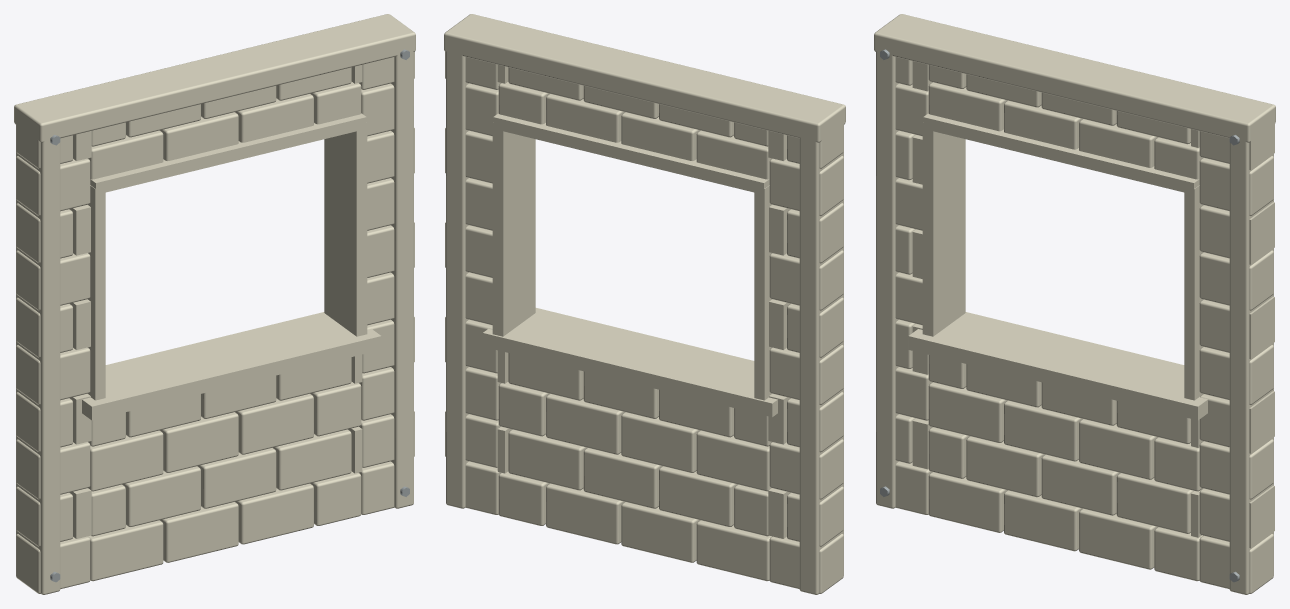
The model's file is rural-scavenging-settlements-stone-cottage-service-wal-5a0fedc5__26467.glb.
The picture shows the model from 3 angles, left to right: view 1: azimuth 30°, elevation 25°; view 2: azimuth 150°, elevation 25°; view 3: azimuth 330°, elevation 25°; orthographic projection.
Visible parts, largest first — view 1: stone-cottage-service-wall; view 2: stone-cottage-service-wall; view 3: stone-cottage-service-wall.
Part boxes in pixels (bbox=[...]): stone-cottage-service-wall: bbox=[14, 14, 415, 594]; stone-cottage-service-wall: bbox=[444, 14, 845, 594]; stone-cottage-service-wall: bbox=[874, 14, 1275, 594].
Bounding box in the file's own units: 2 × 2.4 × 0.3601.
